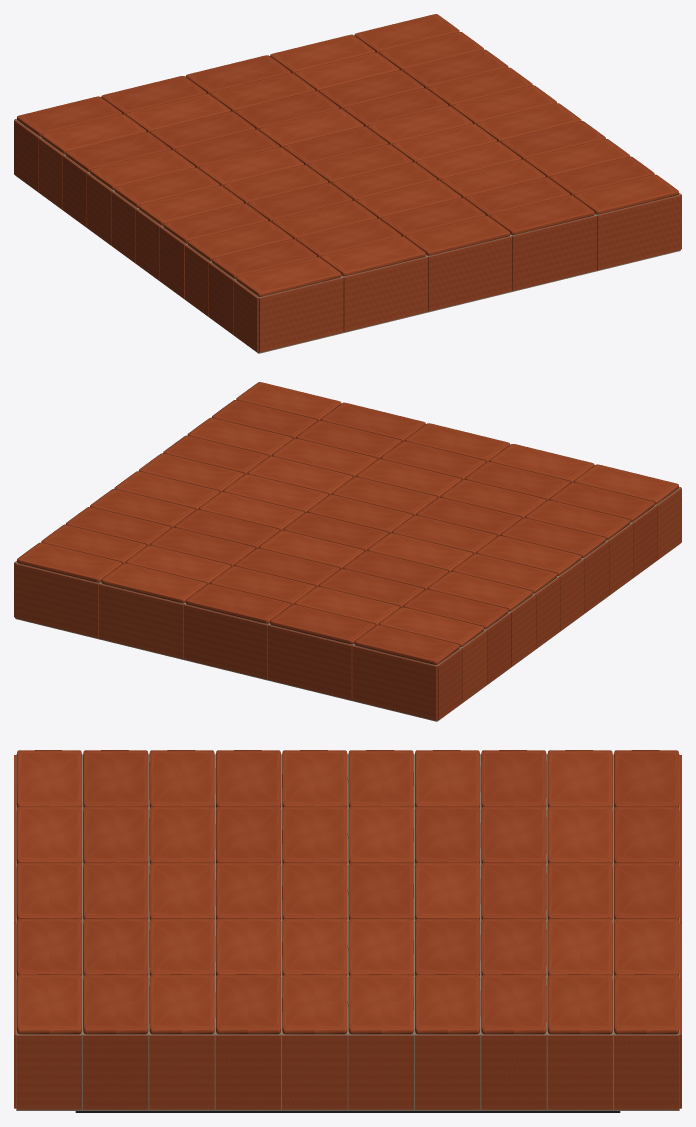
File: N43_table_reference.glb
The picture shows the model from 3 angles, top to bottom: view 1: azimuth 30°, elevation 25°; view 2: azimuth 150°, elevation 25°; view 3: azimuth 270°, elevation 25°; orthographic projection. The views are drawn at different scales.
Visible parts, largest first — view 1: Individual glazed tiles 0, Individual glazed tiles 2, Individual glazed tiles 4, Individual glazed tiles 1, Individual glazed tiles 3, Continuous grouted slab core; view 2: Individual glazed tiles 4, Individual glazed tiles 2, Individual glazed tiles 1, Individual glazed tiles 0, Individual glazed tiles 3, Continuous grouted slab core; view 3: Individual glazed tiles 2, Individual glazed tiles 1, Individual glazed tiles 4, Individual glazed tiles 3, Individual glazed tiles 0, Continuous grouted slab core, Recessed dark plinth.
Boxes of the visible parts, x1,y1,x2,y2 form: Individual glazed tiles 0: (38, 52, 521, 352); Individual glazed tiles 2: (111, 14, 532, 316); Individual glazed tiles 4: (14, 55, 654, 334); Individual glazed tiles 1: (87, 34, 681, 280); Individual glazed tiles 3: (150, 49, 605, 298); Continuous grouted slab core: (15, 119, 680, 353); Individual glazed tiles 4: (174, 400, 657, 720); Individual glazed tiles 2: (14, 423, 633, 648); Individual glazed tiles 1: (99, 382, 584, 666); Individual glazed tiles 0: (125, 444, 681, 702); Individual glazed tiles 3: (65, 402, 608, 612); Continuous grouted slab core: (15, 487, 680, 721); Individual glazed tiles 2: (14, 750, 681, 1109); Individual glazed tiles 1: (14, 750, 681, 1109); Individual glazed tiles 4: (83, 750, 681, 1109); Individual glazed tiles 3: (14, 750, 546, 1109); Individual glazed tiles 0: (14, 750, 612, 975); Continuous grouted slab core: (16, 754, 679, 1110); Recessed dark plinth: (75, 1111, 620, 1112).
Bounding box in the file's own units: 1.35 × 0.241 × 1.35.
Materials: 7 (5 with a texture image).
